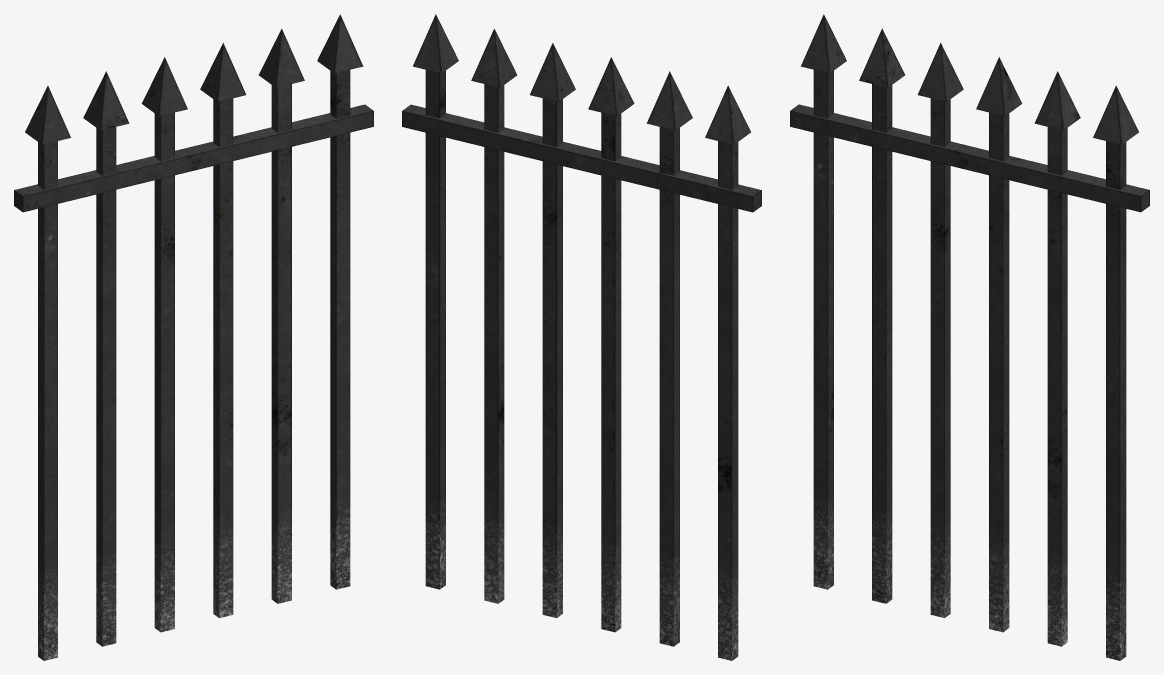
The model's file is FenceFull.fbx.
3 renders of one model, left to right at view 1: azimuth 30°, elevation 25°; view 2: azimuth 150°, elevation 25°; view 3: azimuth 330°, elevation 25°, orthographic.
Visible parts, largest first — view 1: Cube.050; view 2: Cube.050; view 3: Cube.050.
Boxes of the visible parts, bbox=[...] form: Cube.050: bbox=[14, 14, 373, 660]; Cube.050: bbox=[402, 14, 761, 660]; Cube.050: bbox=[790, 14, 1149, 660].
Bounding box in the file's own units: 600 × 934 × 51.18.
